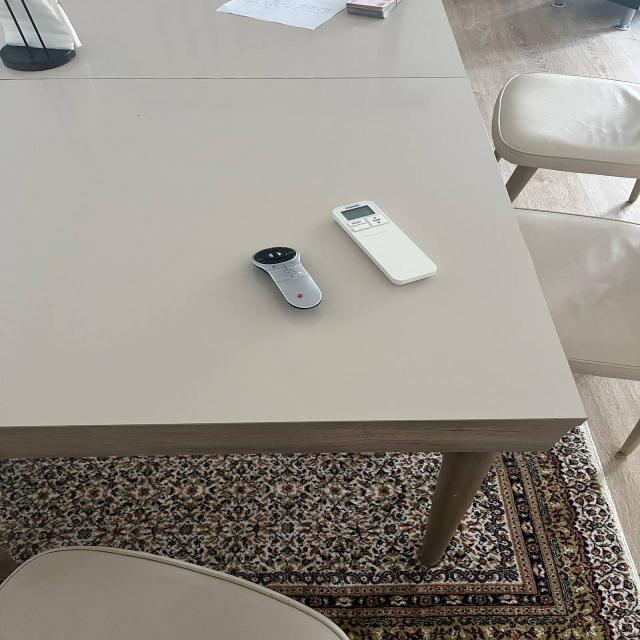remote: (312, 185, 447, 292), (243, 240, 333, 320)
